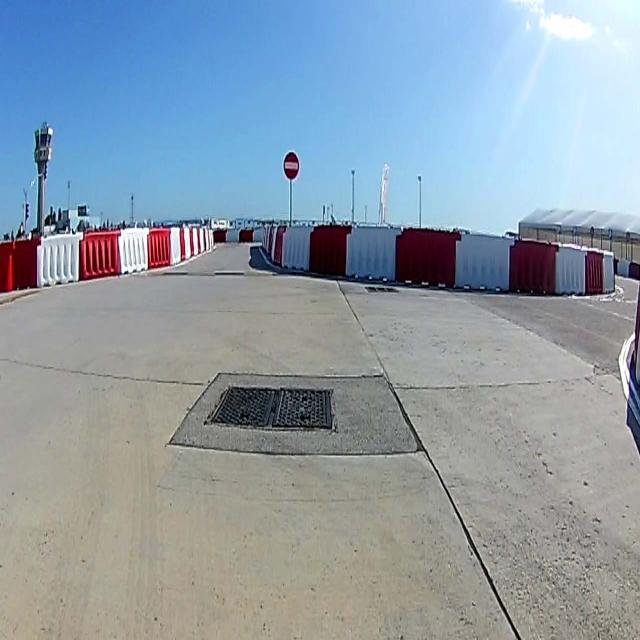girisyok: (283, 151, 299, 181)
